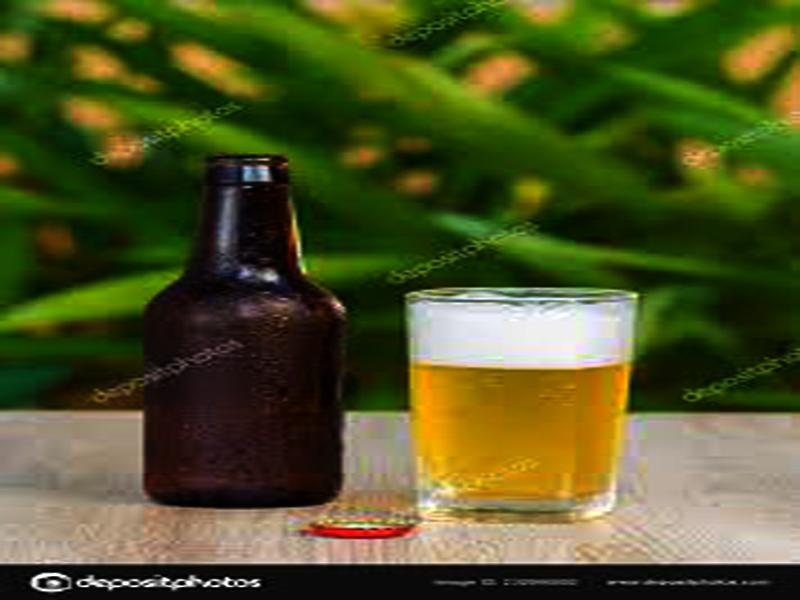Beer: (153, 156, 342, 509)
